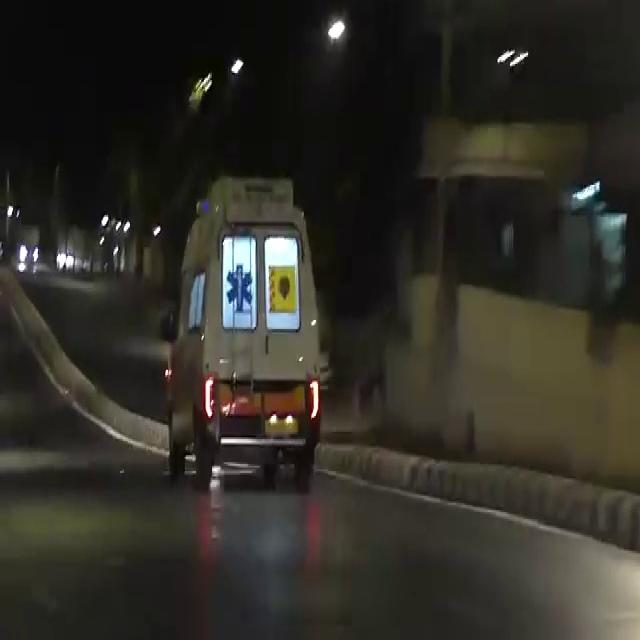ambulance: (178, 173, 333, 477)
